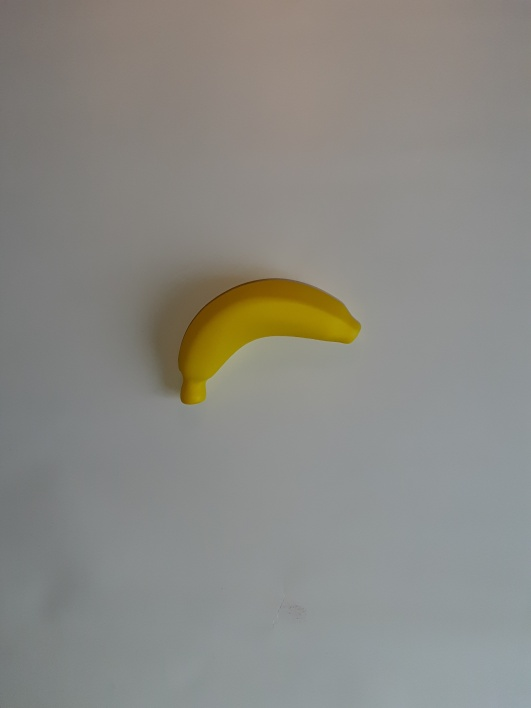banana: (178, 279, 271, 402)
